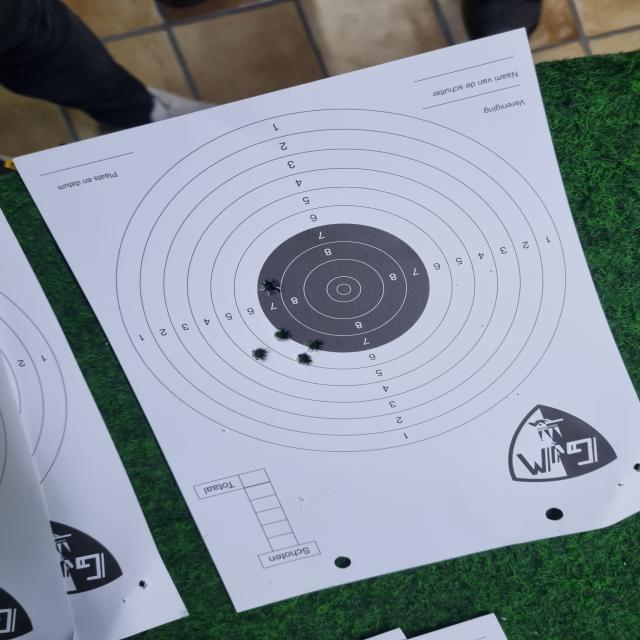6: (252, 346, 268, 362)
7: (296, 353, 314, 367)
8: (260, 278, 280, 296), (274, 328, 292, 342), (307, 340, 324, 352)
Black Contour: (258, 224, 432, 352)
Target: (114, 109, 572, 451), (0, 287, 67, 498)
